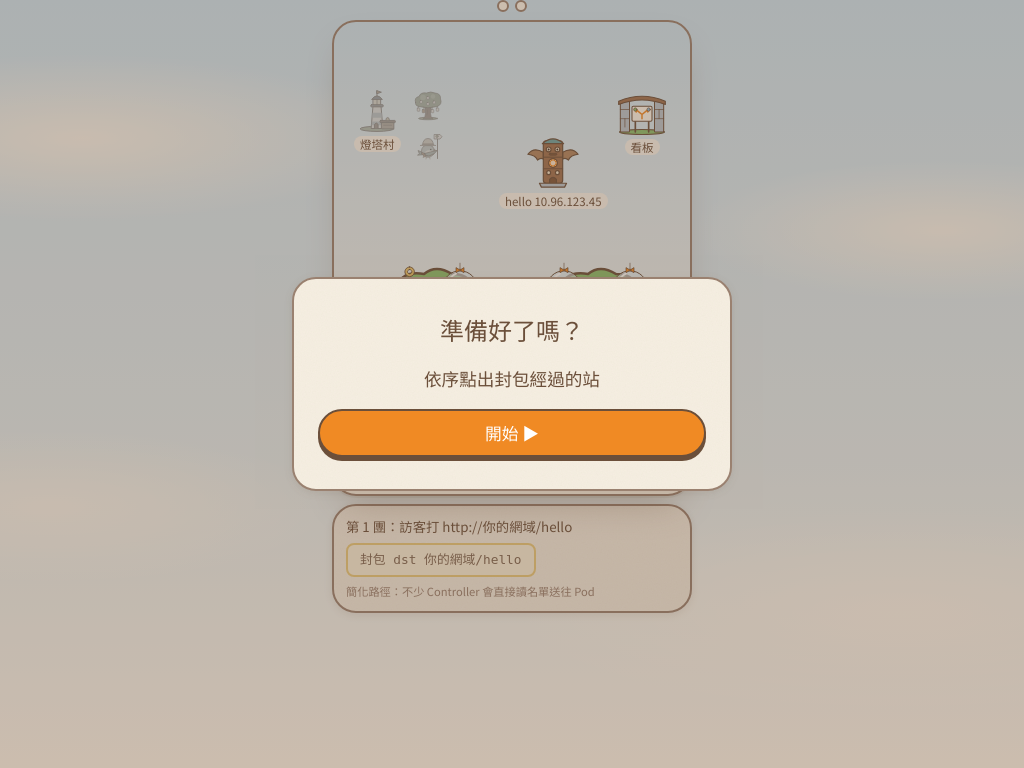
Test case: Day18Game › 第 1 團先到守門員，看板規則改寫目的地為柱子 IP
Click the button with test id "shell-start". click: click(512, 433)
box: [318,409,706,457]
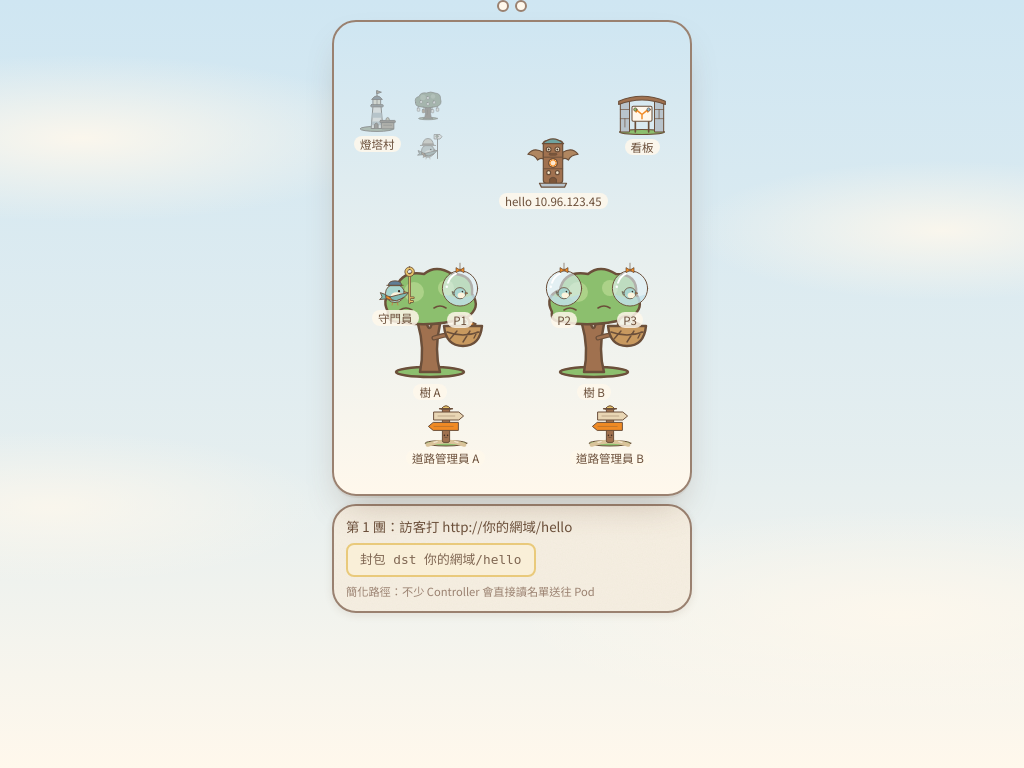
Click the button "守門員". click: click(395, 295)
box: [372,264,418,326]
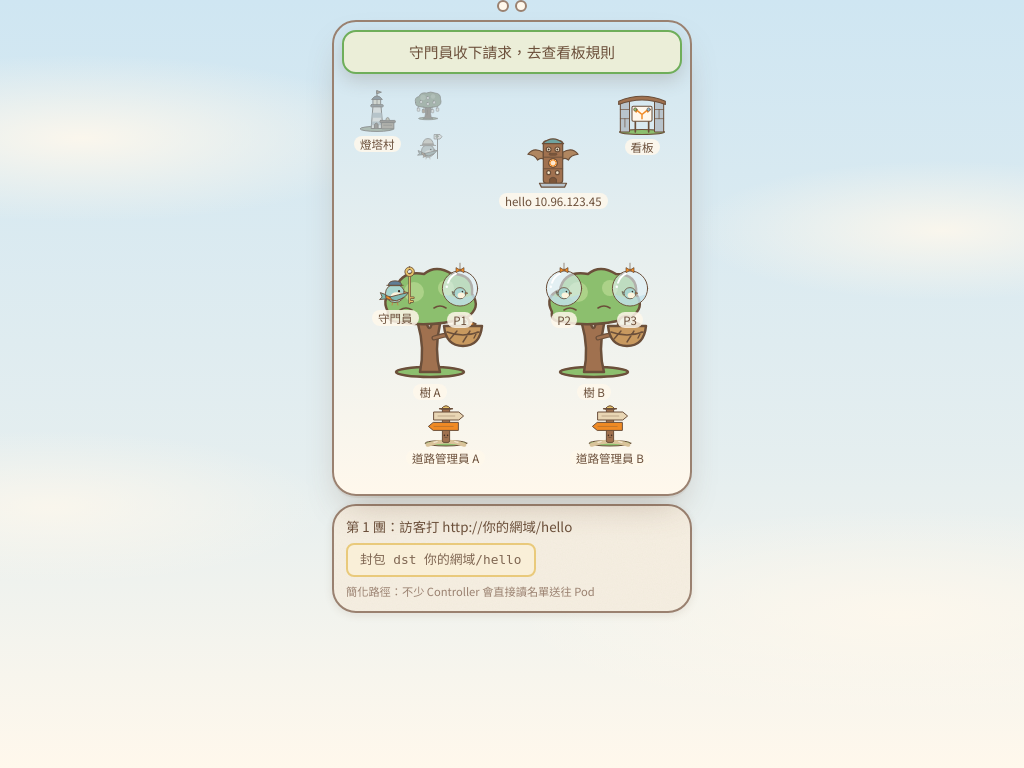
Expected: the button with test id "packet" shows "你的網域/hello", [346,544,536,578]
Click the button "看板". click: click(642, 121)
box: [617,87,667,155]
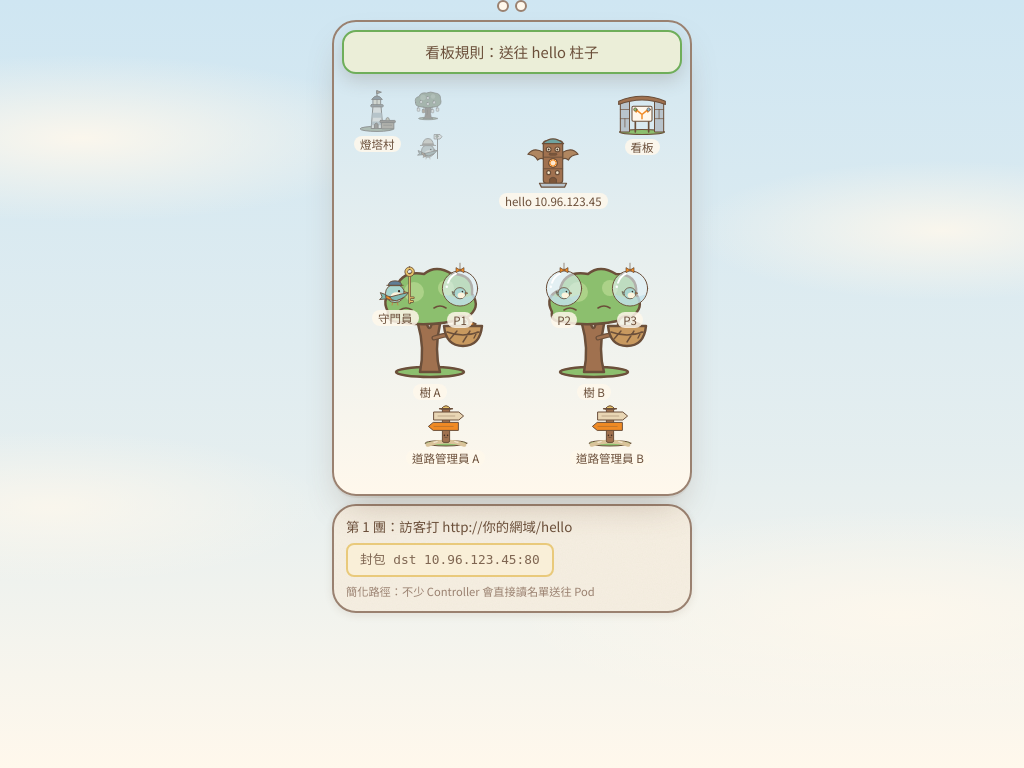
Result: the message "看板規則：送往 hello 柱子" is shown at [342,30,682,74]
Result: the button with test id "packet" shows "10.96.123.45" at [346,544,554,578]
